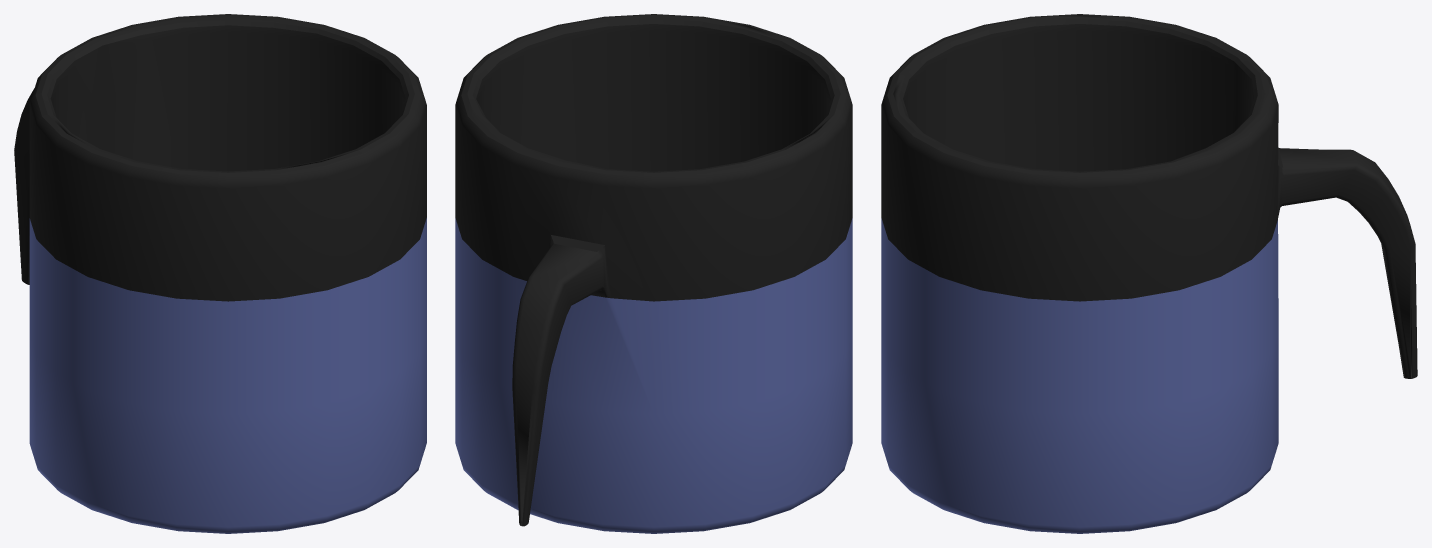
The model's file is cup2.FBX.
3 views of the same model, side by side, from view 1: azimuth 30°, elevation 25°; view 2: azimuth 150°, elevation 25°; view 3: azimuth 270°, elevation 25° (orthographic).
Visible parts, largest first — view 1: ChamferCyl001; view 2: ChamferCyl001; view 3: ChamferCyl001.
Boxes of the visible parts, box(x1,y1,x2,y2) form: ChamferCyl001: box(14, 14, 426, 533); ChamferCyl001: box(455, 14, 852, 533); ChamferCyl001: box(881, 14, 1417, 533).
Bounding box in the file's own units: 100 × 100 × 135.
